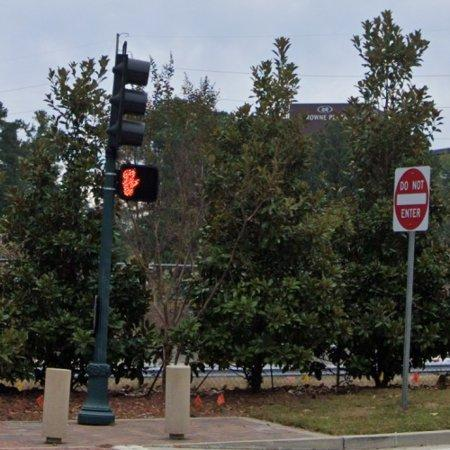traffic lights: (108, 54, 152, 151), (118, 165, 157, 203)
